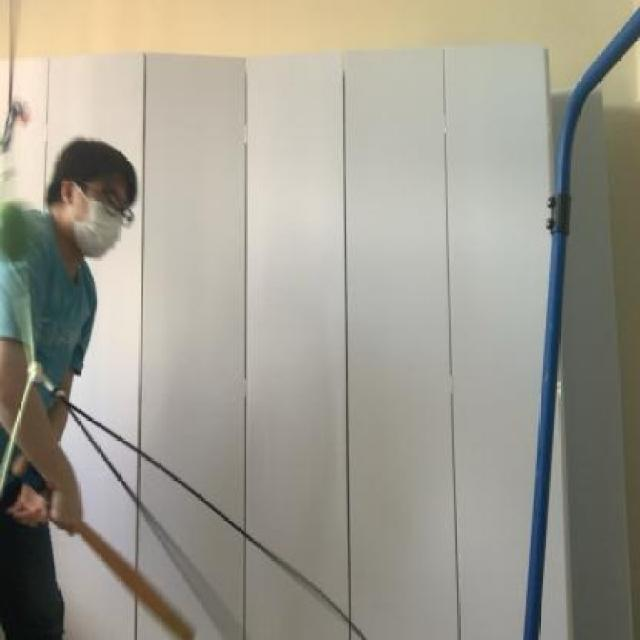baseball: (1, 188, 41, 266)
